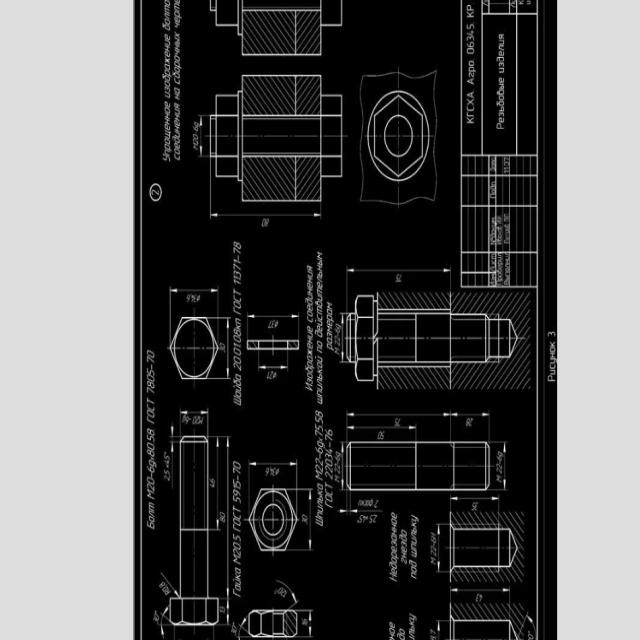marking_line: (346, 266, 450, 274), (225, 434, 230, 594), (212, 213, 320, 220), (276, 578, 301, 608), (152, 602, 170, 639), (248, 459, 300, 470), (214, 437, 220, 531), (229, 615, 251, 640), (347, 413, 449, 417), (450, 588, 511, 594), (170, 286, 217, 293), (501, 444, 508, 489), (247, 314, 299, 320), (347, 426, 416, 430), (340, 316, 346, 361), (340, 444, 346, 489), (198, 115, 204, 157), (169, 423, 177, 453), (226, 318, 230, 377), (450, 412, 489, 418), (436, 526, 441, 572), (259, 364, 290, 371), (180, 407, 208, 414), (339, 509, 385, 513), (226, 598, 232, 623), (307, 611, 313, 635), (435, 622, 442, 639)
numeric: (161, 451, 172, 482), (451, 495, 499, 502), (355, 514, 378, 526), (332, 322, 342, 348), (181, 416, 205, 426), (184, 292, 202, 304), (495, 451, 504, 474), (428, 532, 437, 555), (192, 121, 199, 144), (218, 510, 227, 526), (464, 417, 476, 429), (300, 514, 311, 527), (277, 587, 286, 599), (219, 340, 227, 353), (378, 432, 386, 442), (209, 478, 215, 488)
special_symbol: (159, 571, 180, 599)
